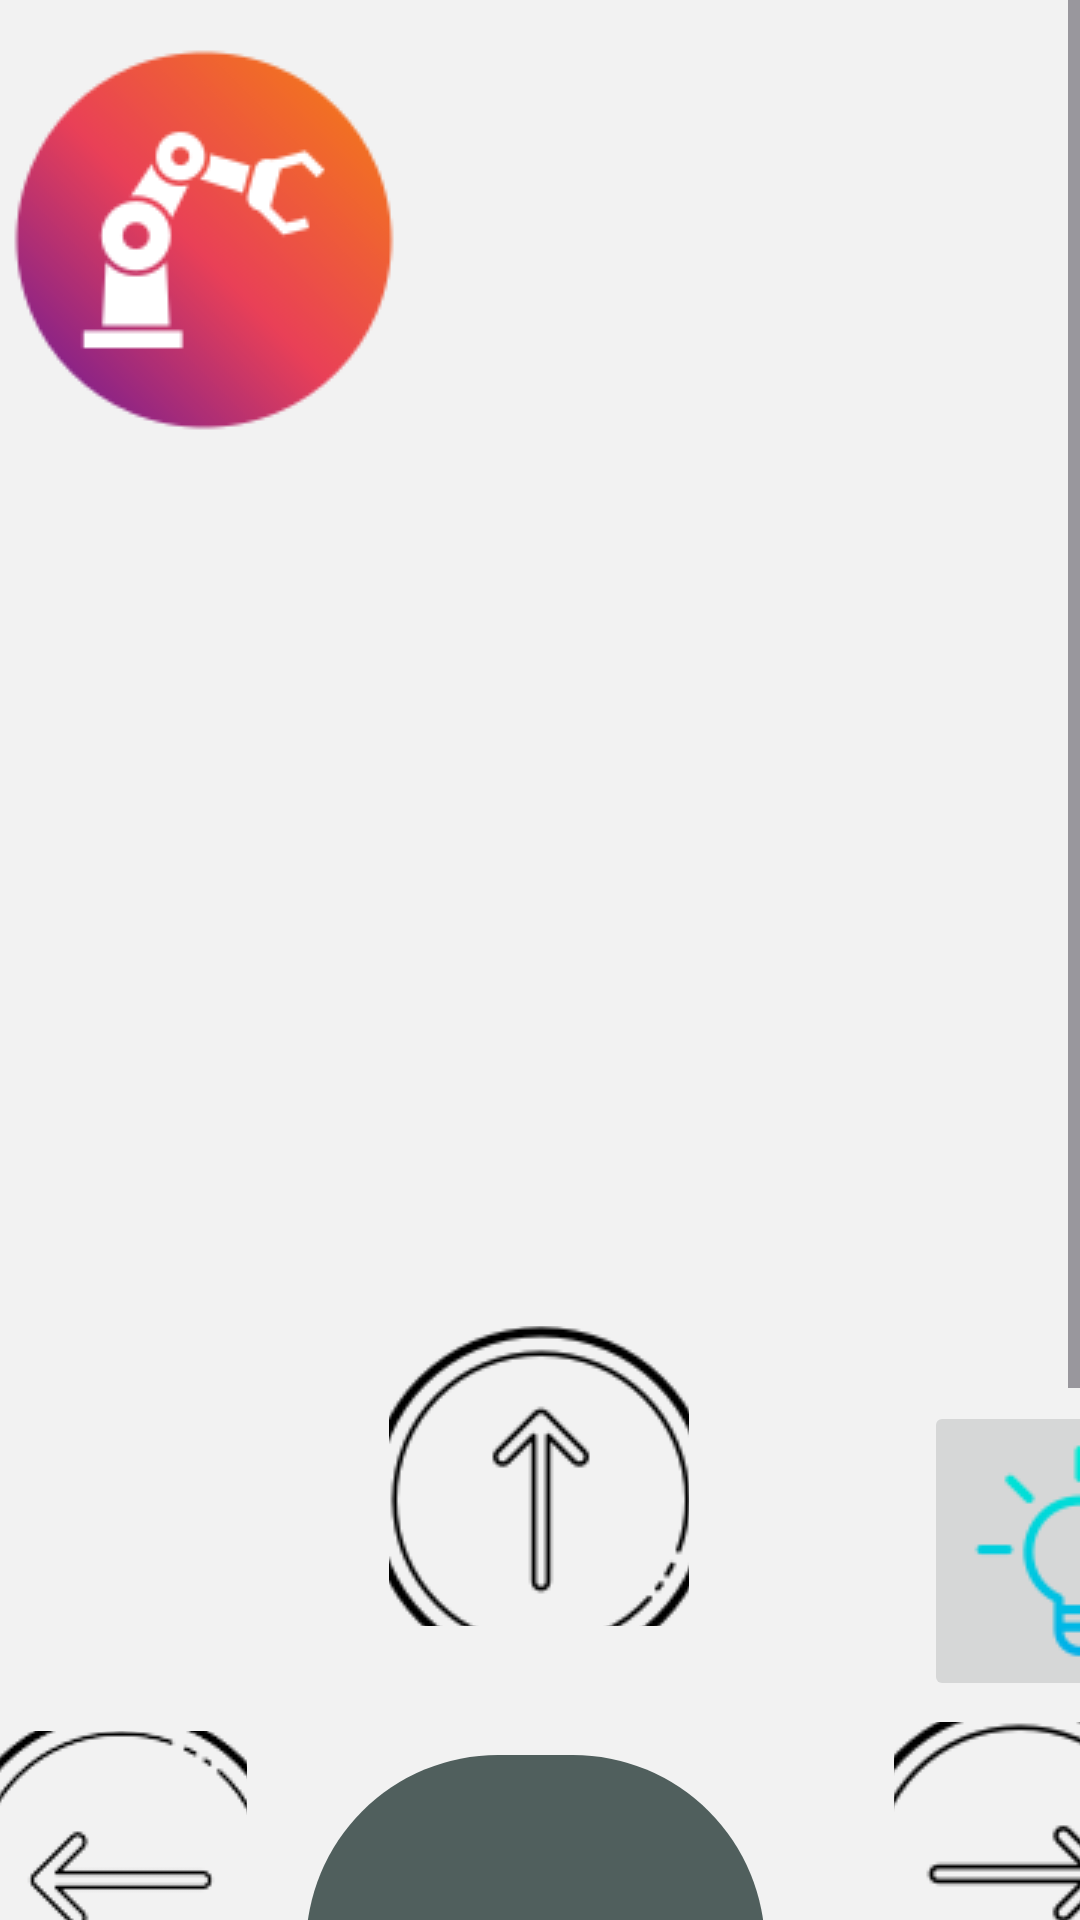

Icon bounding boxes for this 1080×1920 phone screenshot, format box(x1, y1, x2, y2):
arrowwhiteup: box(389, 1326, 689, 1626)
